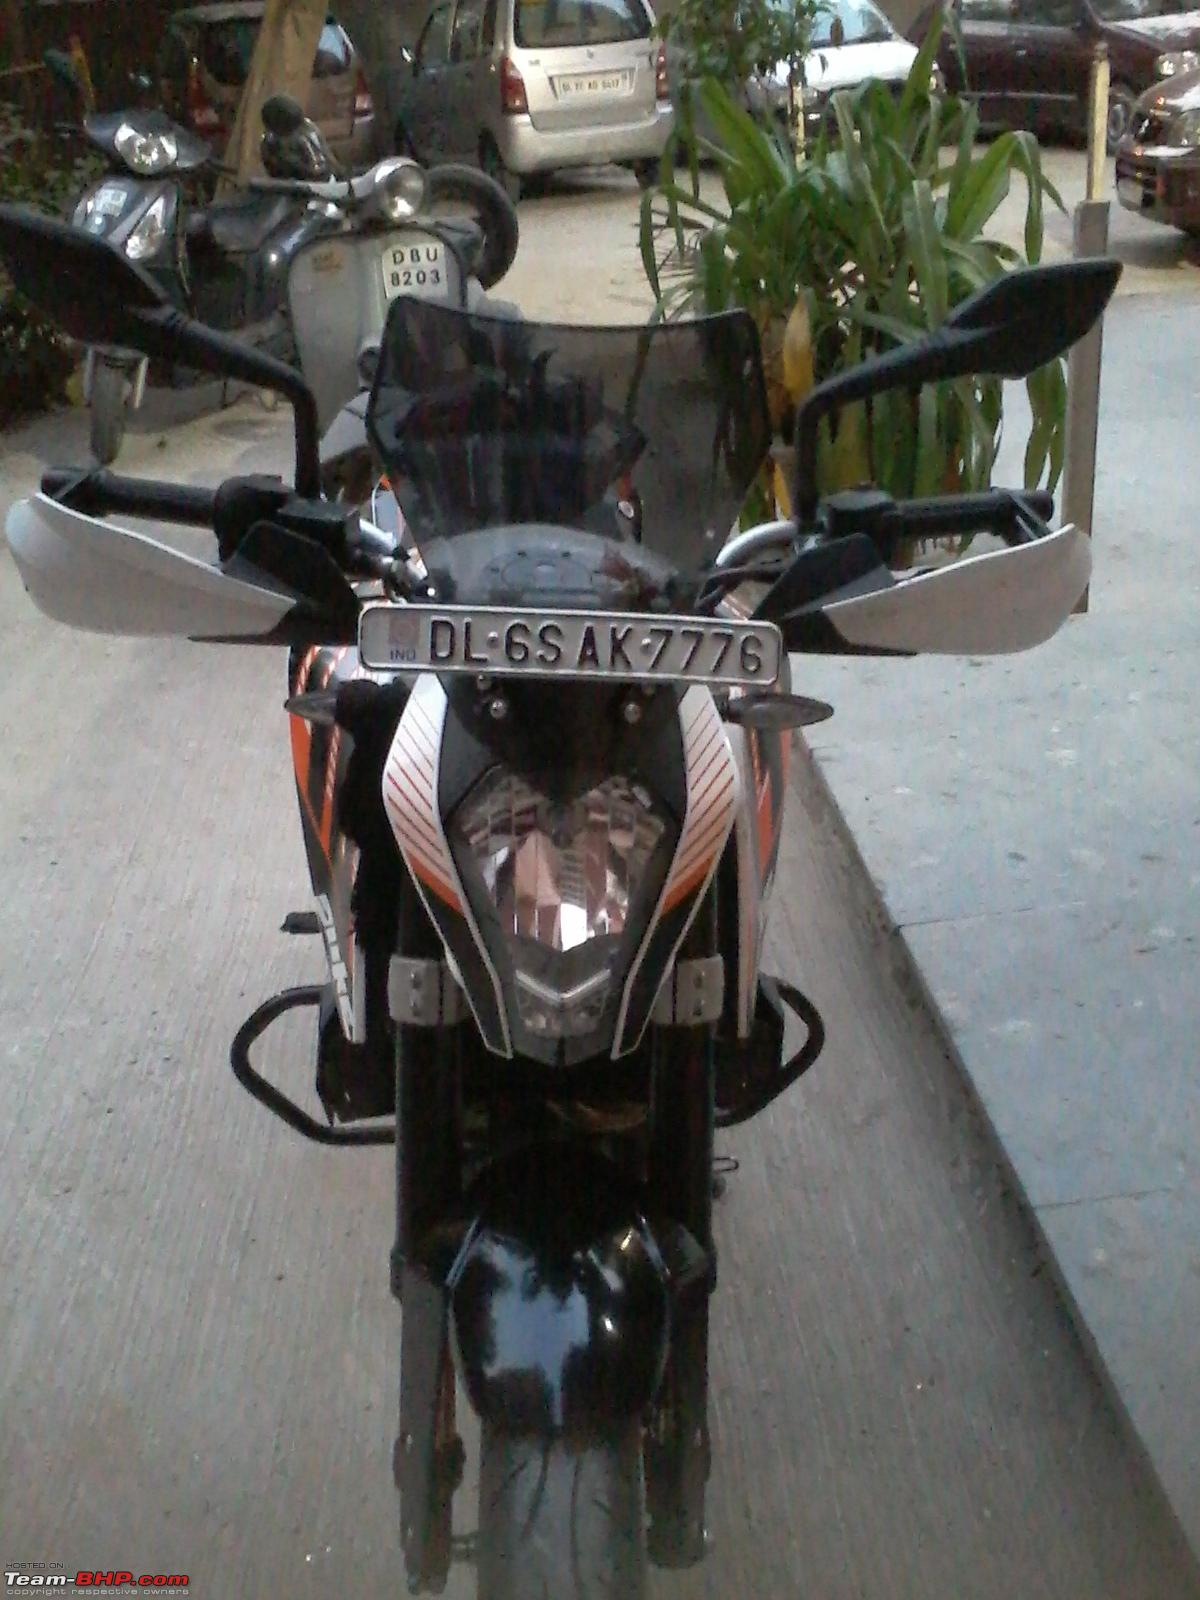numberplate: (358, 599, 789, 699)
